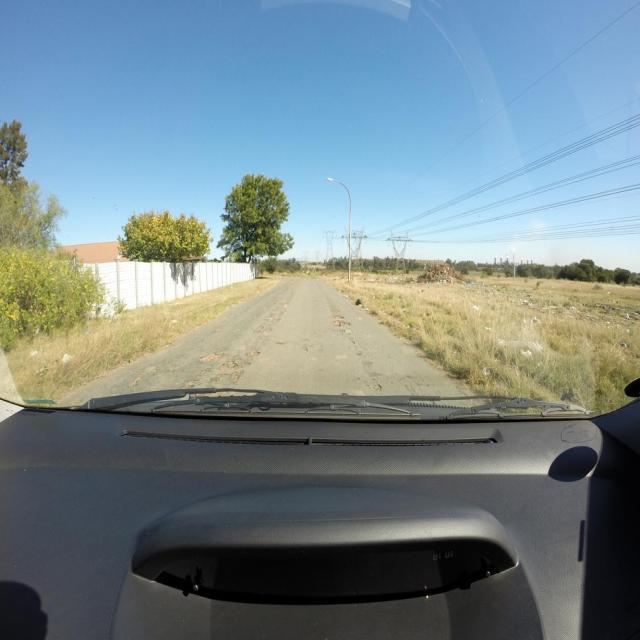pothole: (200, 350, 227, 362), (218, 361, 239, 370), (331, 320, 351, 328), (331, 315, 344, 319)
